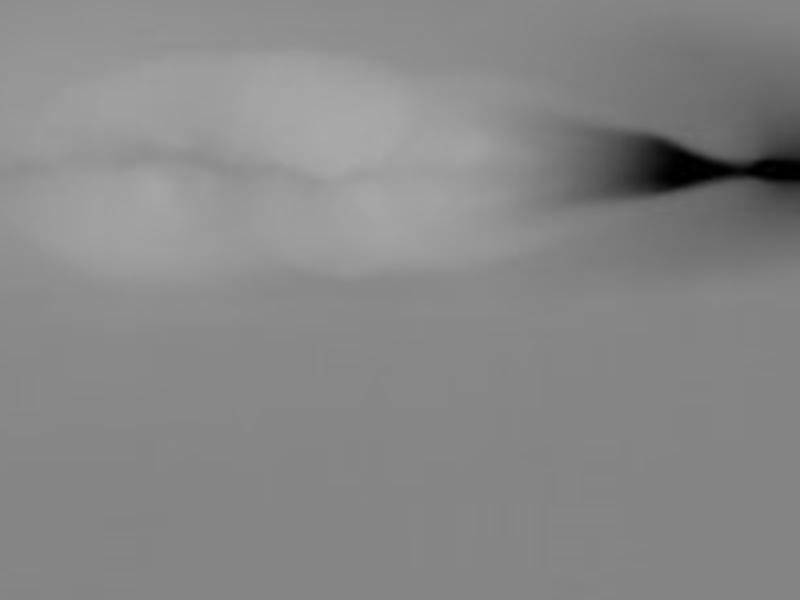defect: (598, 127, 731, 199), (739, 156, 795, 179)
